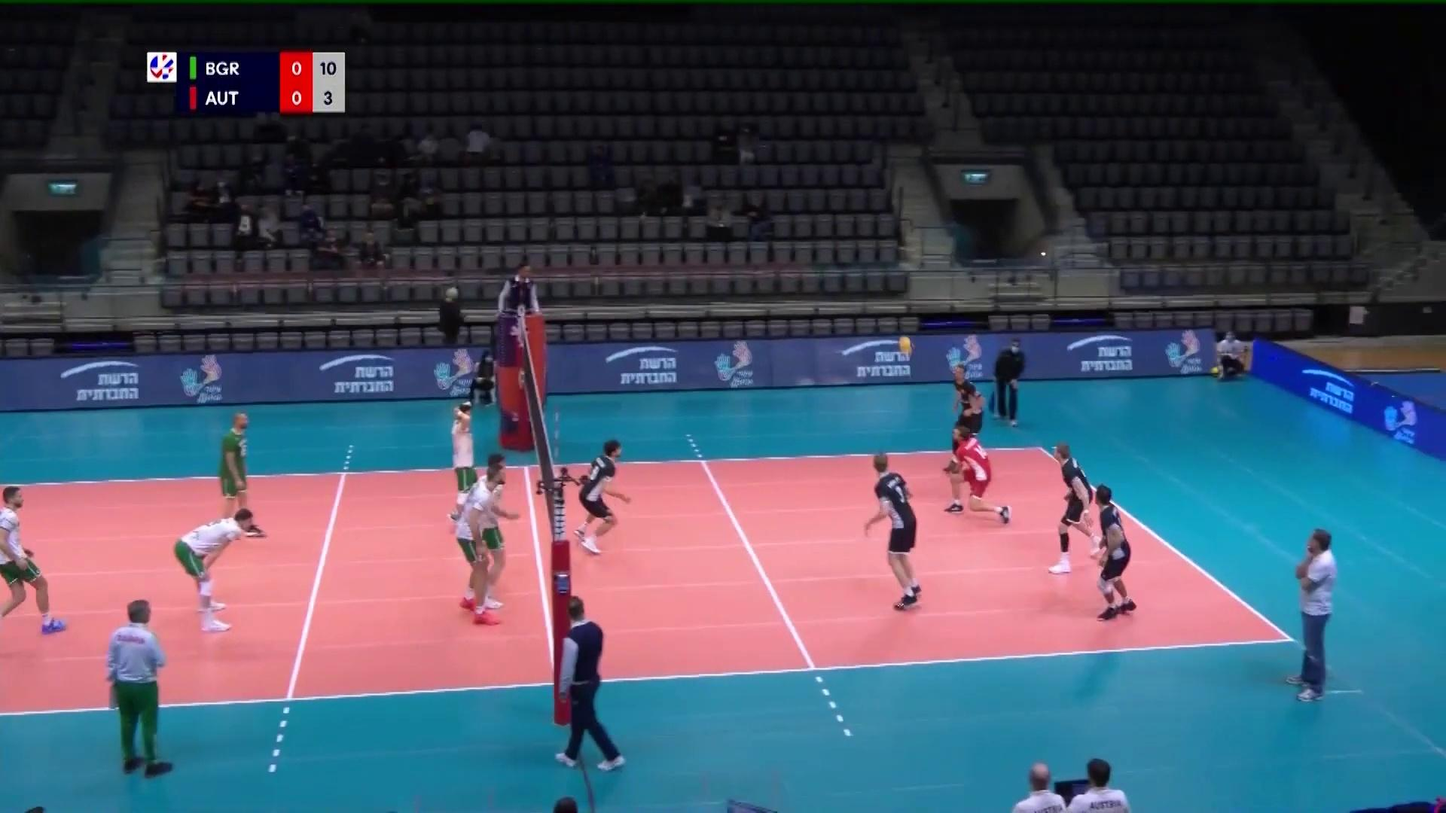ball: (897, 335, 915, 355)
